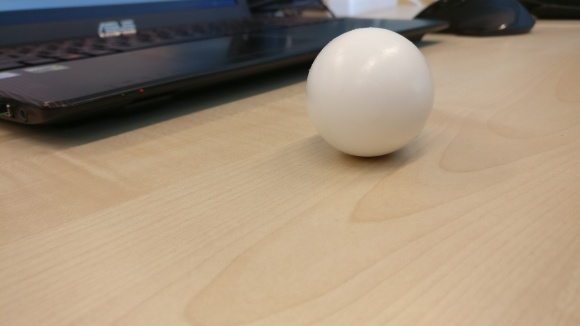egg: (306, 27, 435, 160)
